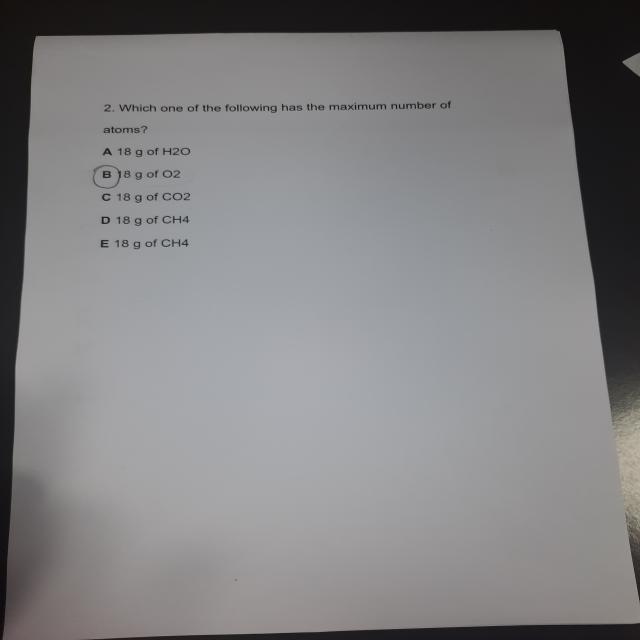B: (92, 166, 124, 191)
